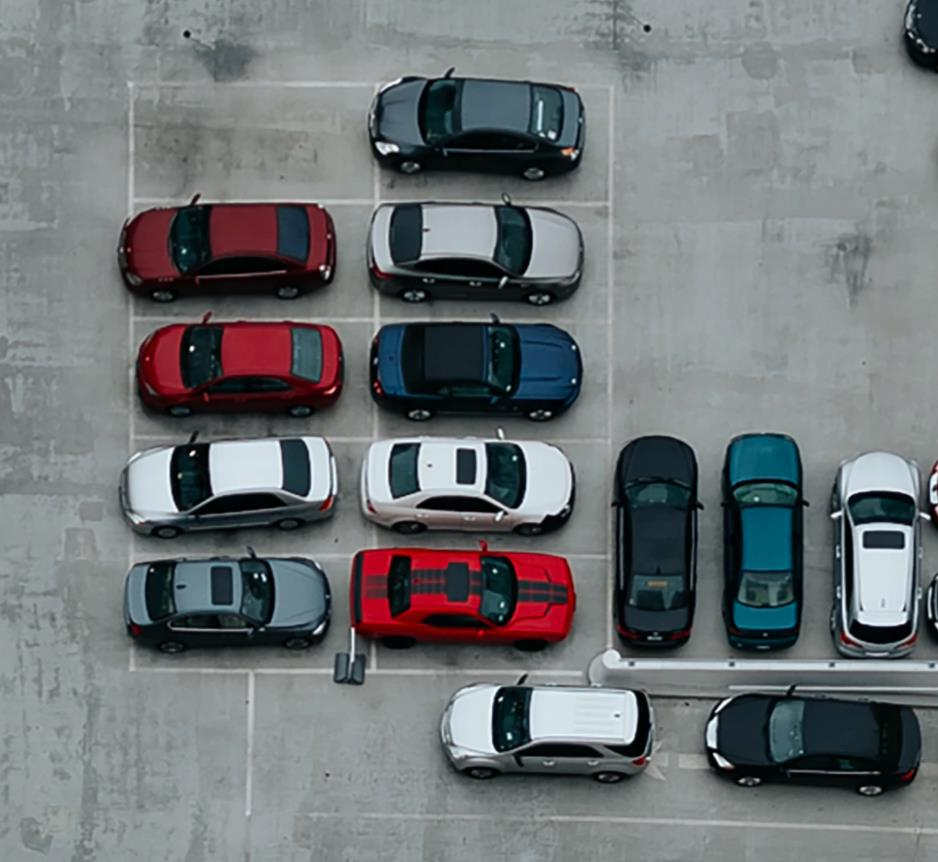car: (360, 191, 589, 309), (699, 681, 924, 801), (364, 65, 590, 184), (344, 538, 576, 652), (120, 428, 345, 545), (438, 671, 660, 786), (357, 424, 580, 538), (126, 310, 348, 422), (115, 193, 340, 303), (366, 313, 589, 423), (119, 546, 334, 655), (825, 444, 930, 660), (608, 430, 705, 656), (717, 426, 812, 654)
